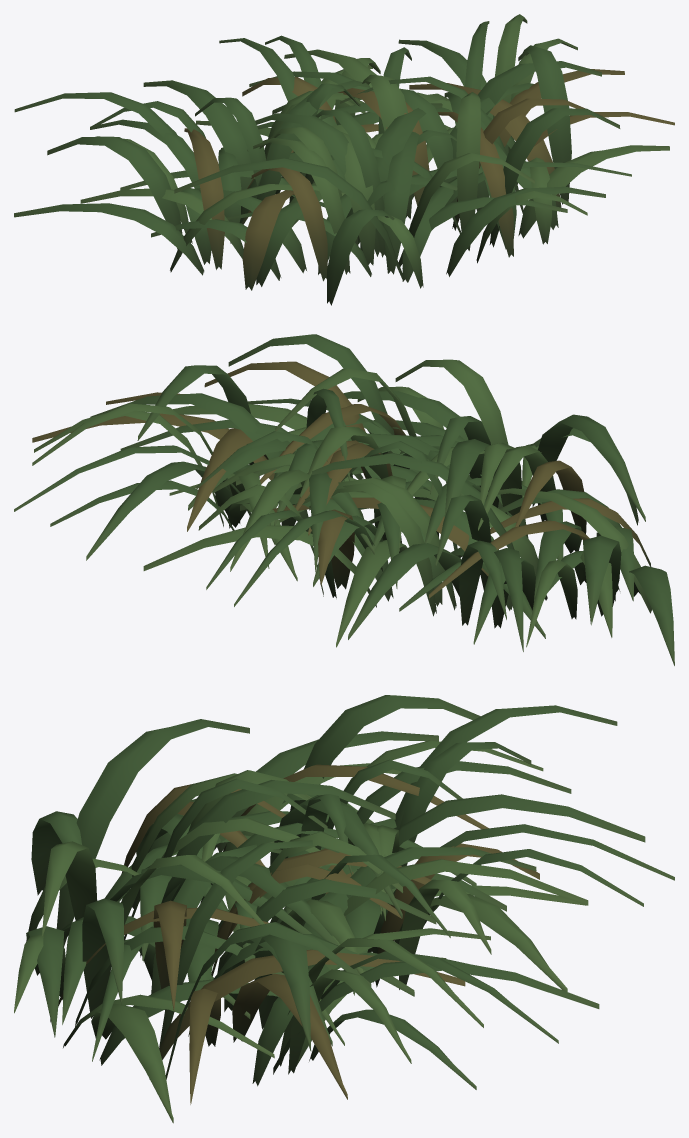
The model's file is sedge-crescent.glb.
The picture shows the model from 3 angles, top to bottom: view 1: azimuth 30°, elevation 25°; view 2: azimuth 150°, elevation 25°; view 3: azimuth 270°, elevation 25°; orthographic projection. The views are drawn at different scales.
Parts seen in each view (by area): view 1: RF06B sedge-crescent; view 2: RF06B sedge-crescent; view 3: RF06B sedge-crescent.
Part boxes in pixels (box(x1,y1,x2,y2)): RF06B sedge-crescent: box(14, 14, 674, 305); RF06B sedge-crescent: box(14, 334, 674, 665); RF06B sedge-crescent: box(14, 695, 674, 1123).
Bounding box in the file's own units: 1.53 × 0.316 × 1.08.
